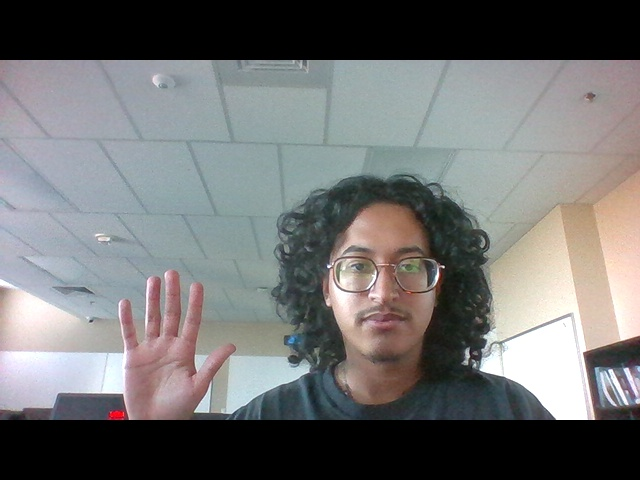hello: (109, 262, 235, 421)
